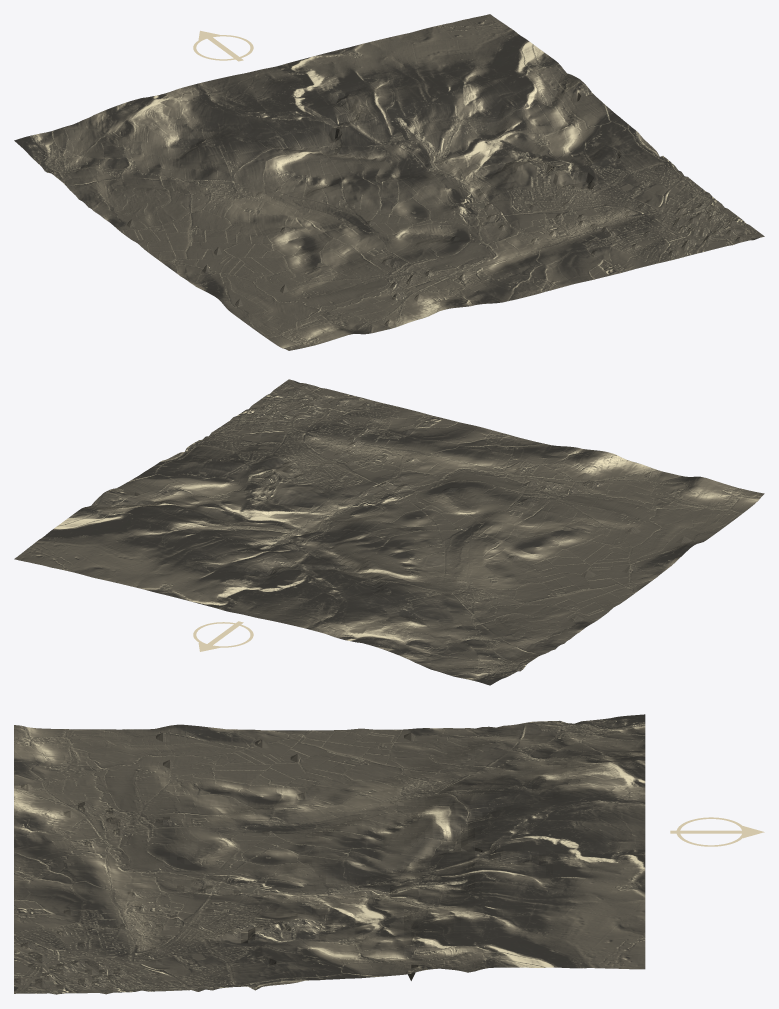
File: wookey-hole.glb
3 views of the same model, one above another, from view 1: azimuth 30°, elevation 25°; view 2: azimuth 150°, elevation 25°; view 3: azimuth 270°, elevation 25° (orthographic). The views are drawn at different scales.
Visible parts, largest first — view 1: Oddscape_Terrain_v221_GLB; view 2: Oddscape_Terrain_v221_GLB; view 3: Oddscape_Terrain_v221_GLB.
Boxes of the visible parts, left/top/right/bottom form: Oddscape_Terrain_v221_GLB: left=14, top=14, right=764, bottom=350; Oddscape_Terrain_v221_GLB: left=14, top=379, right=764, bottom=685; Oddscape_Terrain_v221_GLB: left=14, top=714, right=764, bottom=994.
Bounding box in the file's own units: 1.6 × 0.0884 × 1.9.
Materials: 2 (1 with a texture image).
